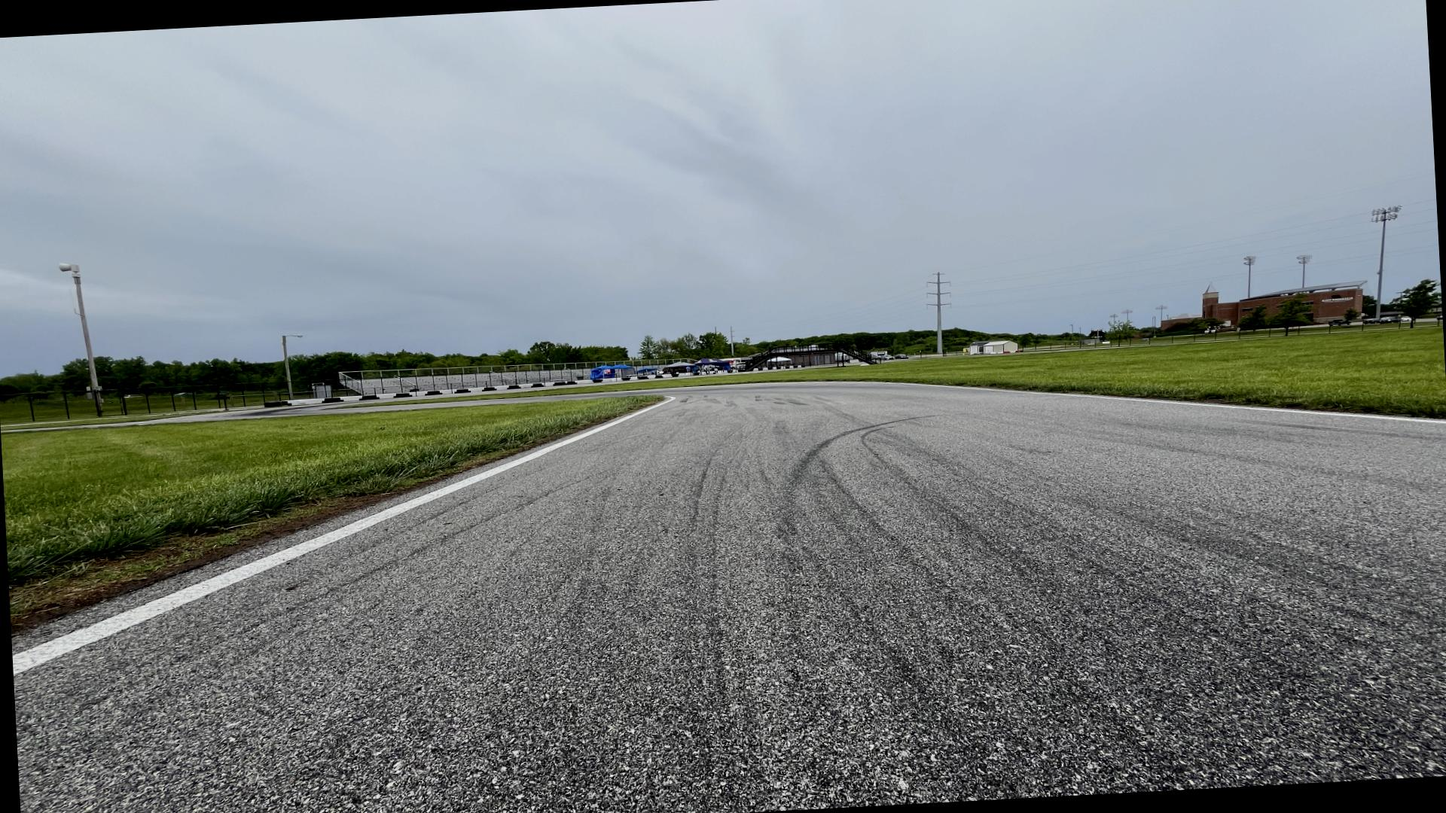white-line: (12, 491, 428, 676), (419, 403, 636, 505), (1165, 398, 1445, 428), (930, 383, 1169, 406), (781, 379, 935, 389), (323, 401, 437, 413), (434, 395, 545, 405), (679, 380, 785, 389), (634, 393, 676, 415), (542, 391, 615, 399), (614, 386, 682, 393)
